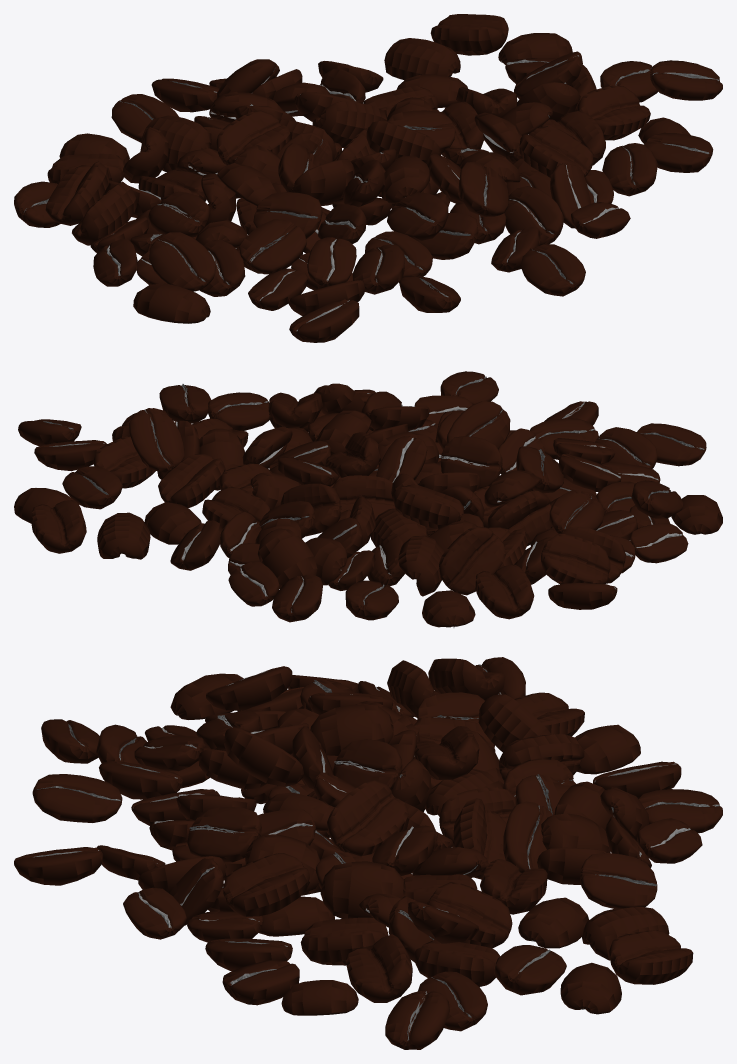
File: Coffee_bean_v2_fbx.FBX
3 renders of one model, top to bottom at view 1: azimuth 30°, elevation 25°; view 2: azimuth 150°, elevation 25°; view 3: azimuth 270°, elevation 25°, orthographic. The views are drawn at different scales.
Visible parts, largest first — view 1: Bean_05_retop026; view 2: Bean_05_retop026; view 3: Bean_05_retop026.
Boxes of the visible parts, box(x1,y1,x2,y2) form: Bean_05_retop026: box(14, 14, 722, 342); Bean_05_retop026: box(14, 371, 722, 627); Bean_05_retop026: box(14, 657, 722, 1049).
Bounding box in the file's own units: 94.55 × 76.7 × 11.93.
